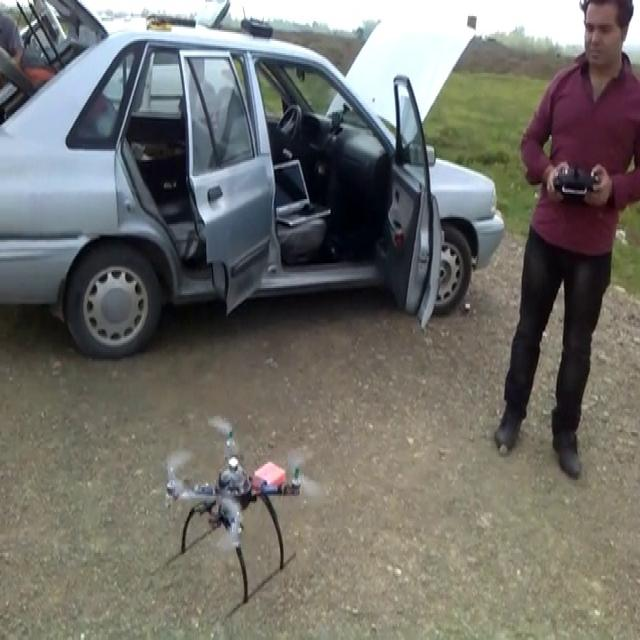drone: (145, 410, 325, 626)
